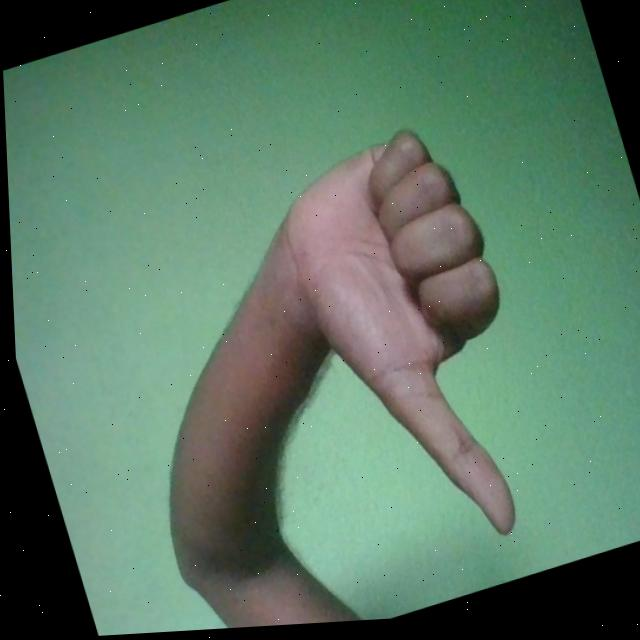Dislike: (254, 114, 562, 584)
